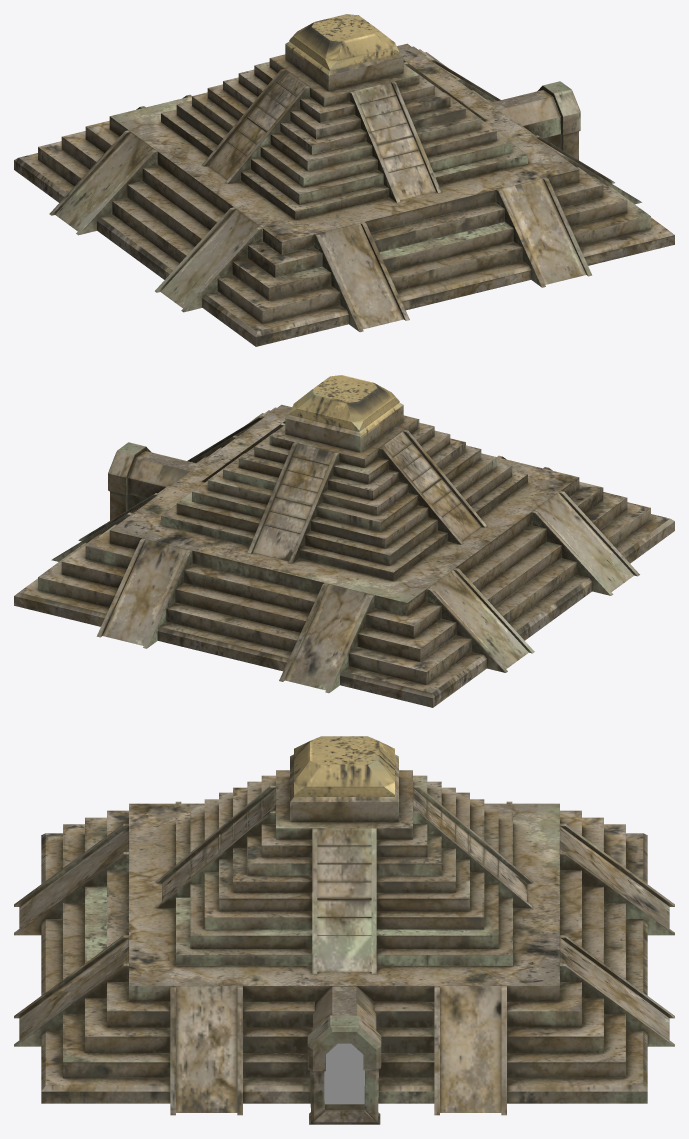
The model's file is CortexDesPyramides3.fbx.
3 renders of one model, top to bottom at view 1: azimuth 30°, elevation 25°; view 2: azimuth 150°, elevation 25°; view 3: azimuth 270°, elevation 25°, orthographic. The views are drawn at different scales.
Visible parts, largest first — view 1: Cube; view 2: Cube; view 3: Cube.
Part boxes in pixels (bbox=[...]): Cube: bbox=[14, 14, 674, 346]; Cube: bbox=[14, 375, 674, 707]; Cube: bbox=[14, 736, 674, 1124].
Bounding box in the file's own units: 8980 × 3580 × 8980.
